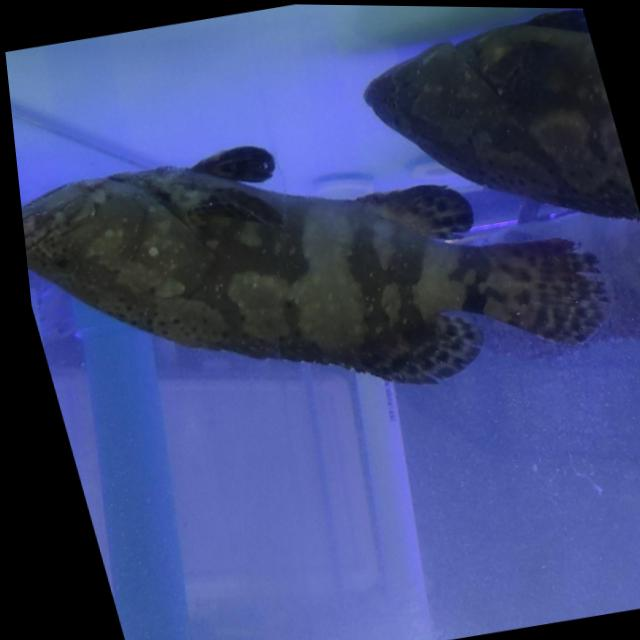Groupers: (9, 88, 640, 451)
